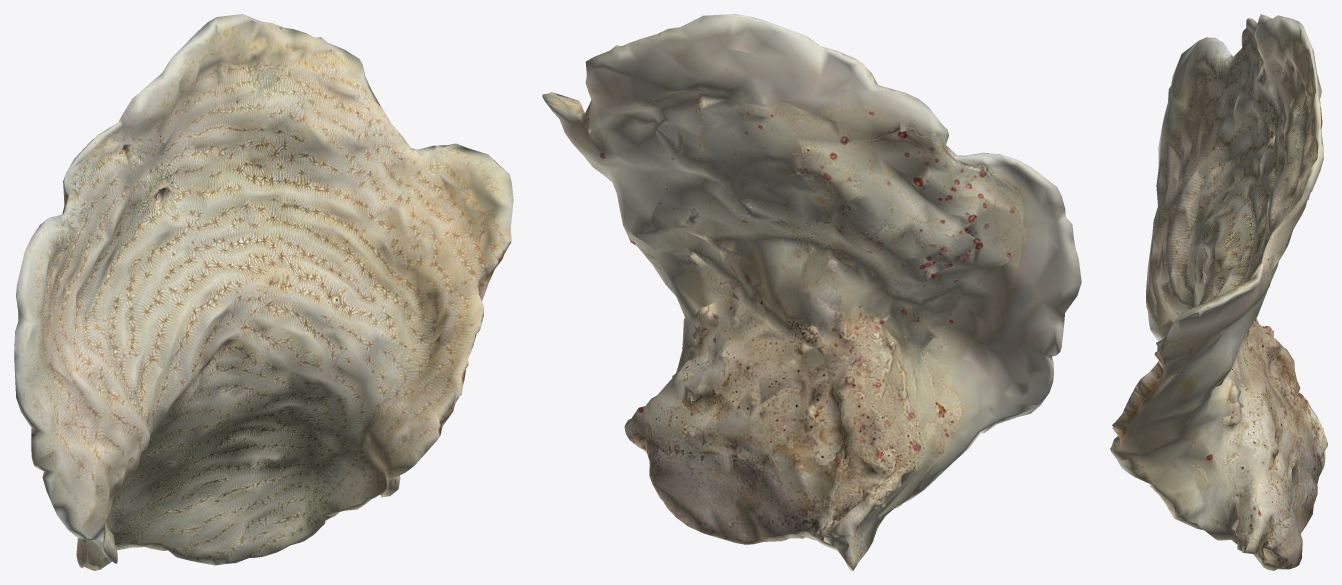
Rendered from coral-agaricia.glb.
The picture shows the model from 3 angles, left to right: view 1: azimuth 30°, elevation 25°; view 2: azimuth 150°, elevation 25°; view 3: azimuth 270°, elevation 25°; orthographic projection. The views are drawn at different scales.
Bounding box in the file's own units: 0.1475 × 0.1473 × 0.0558.
1 material, 1 textured.
